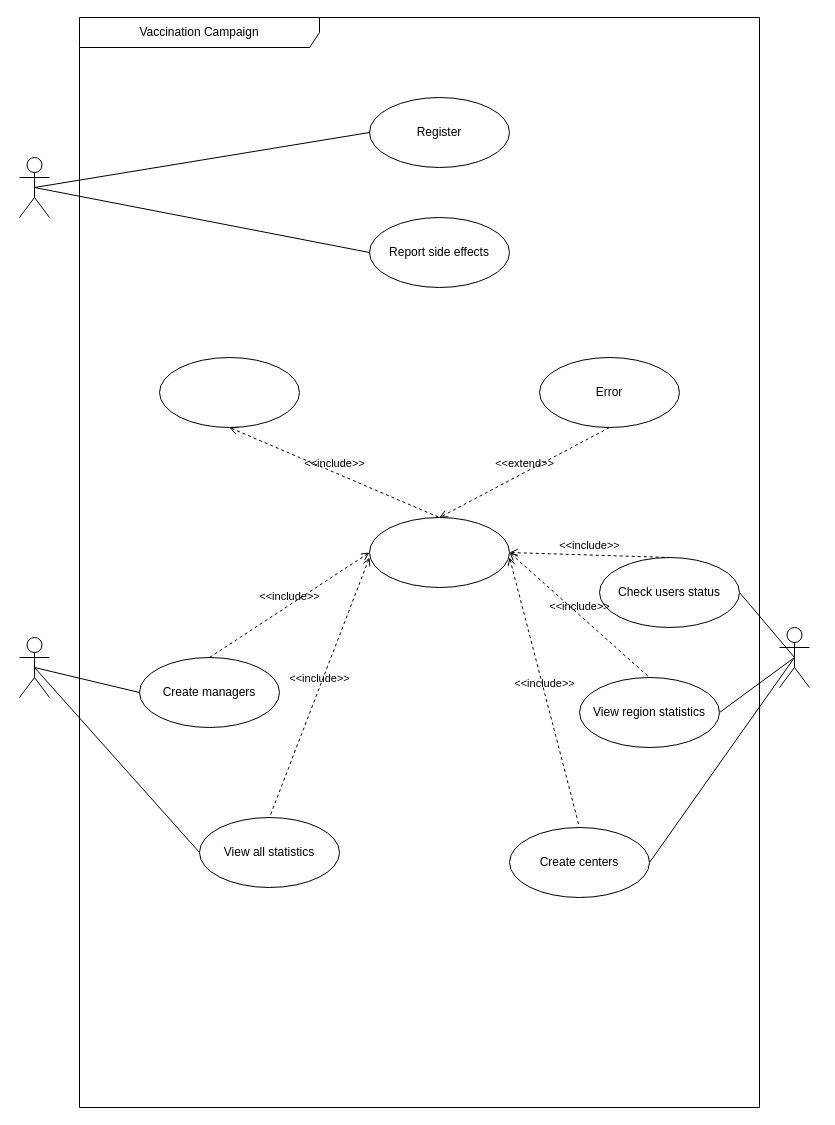
This 835x1125 diagram has some shape labels left out. The box of each missing label's shape, as (x1, y1, x2, y2) in pixels:
Admin: (18, 636, 50, 698)
Authentication: (368, 516, 510, 588)
Manager: (778, 626, 810, 688)
User: (18, 156, 50, 218)
Verification: (158, 356, 300, 428)
